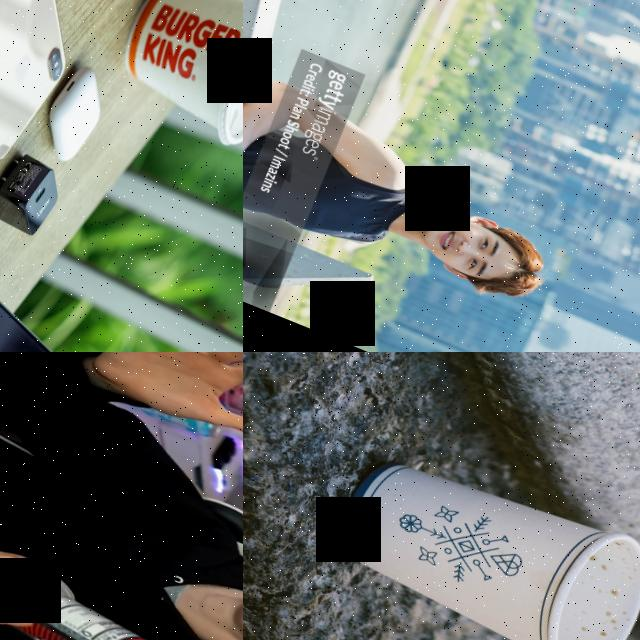can: (0, 549, 187, 640)
cup: (315, 432, 640, 640), (100, 0, 243, 158)
